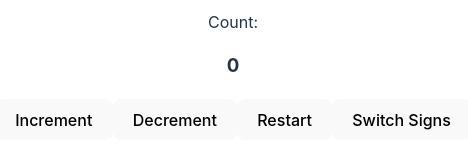
it: Counter › counter should decrement by 1 if the decrement button is clicked
The image size is (468, 160).
Expected: the heading with test id "count" reads "0", [227,54,239,77]
Click the button "Decrement" at (175, 120), box [112,99,237,140]
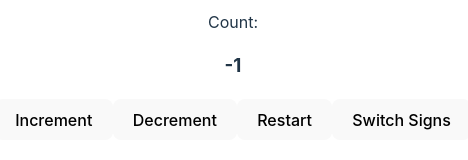
Expected: the heading with test id "count" reads "-1", [225,54,241,77]
